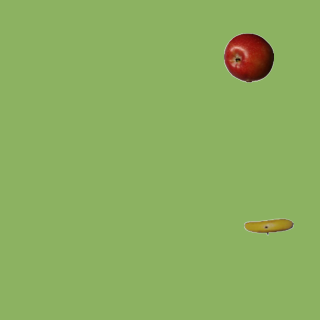Apple Braeburn: (223, 32, 273, 82)
Banana: (243, 201, 293, 251)
